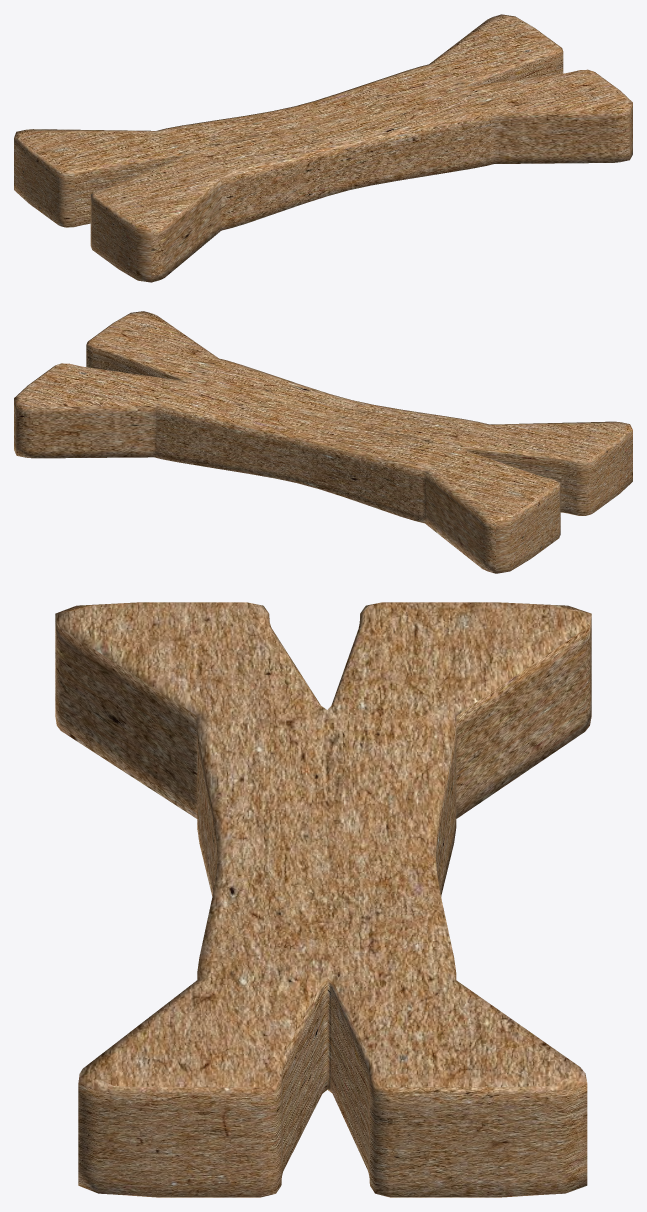
The model's file is candy.fbx.
3 views of the same model, one above another, from view 1: azimuth 30°, elevation 25°; view 2: azimuth 150°, elevation 25°; view 3: azimuth 270°, elevation 25° (orthographic). The views are drawn at different scales.
Visible parts, largest first — view 1: pCube1; view 2: pCube1; view 3: pCube1.
Part boxes in pixels (box(x1,y1,x2,y2)): pCube1: box(14, 14, 632, 282); pCube1: box(14, 311, 632, 573); pCube1: box(55, 602, 591, 1197).
Bounding box in the file's own units: 481 × 51.66 × 222.
Materials: 1 (1 with a texture image).
